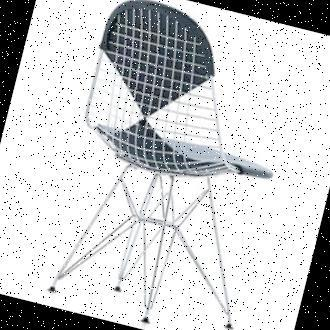Silla: (39, 0, 305, 329)
